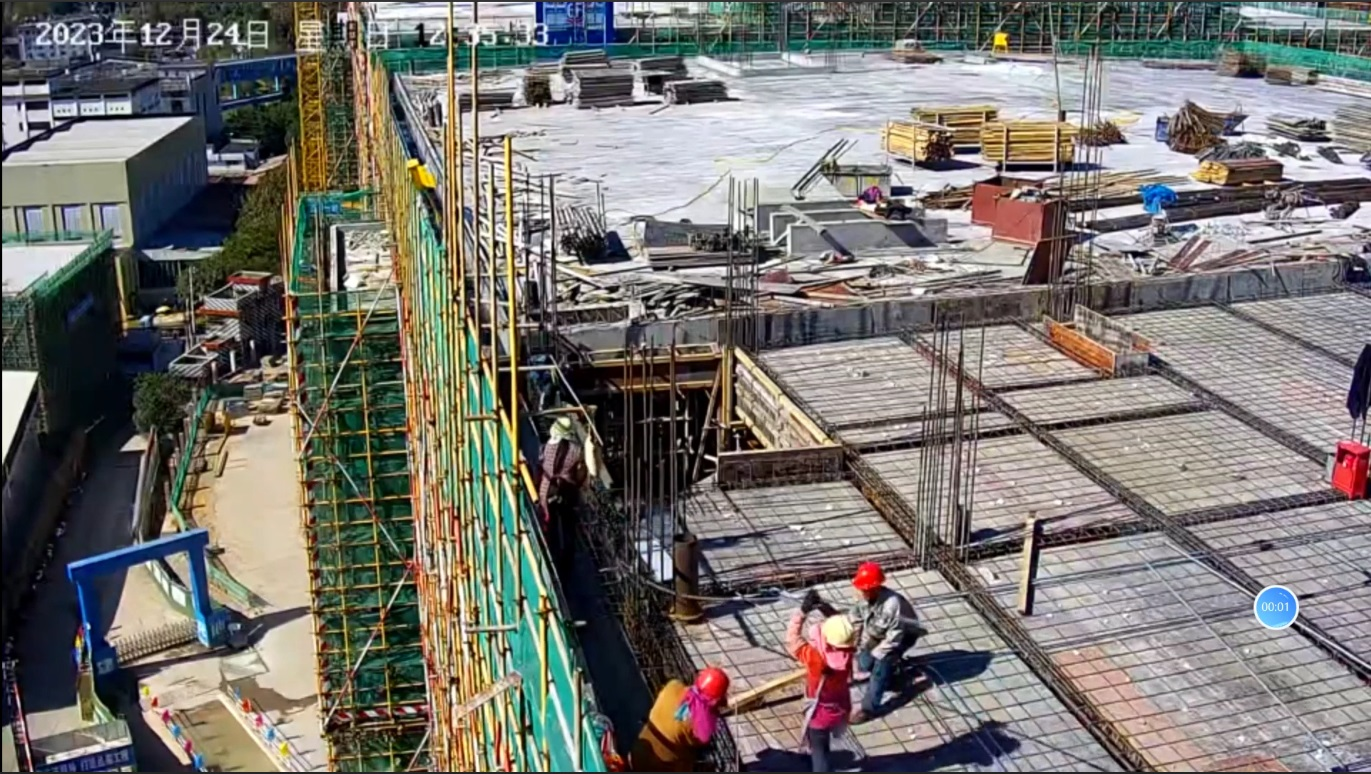person: (782, 587, 857, 773), (842, 561, 920, 720), (621, 664, 728, 771), (530, 415, 586, 522)
